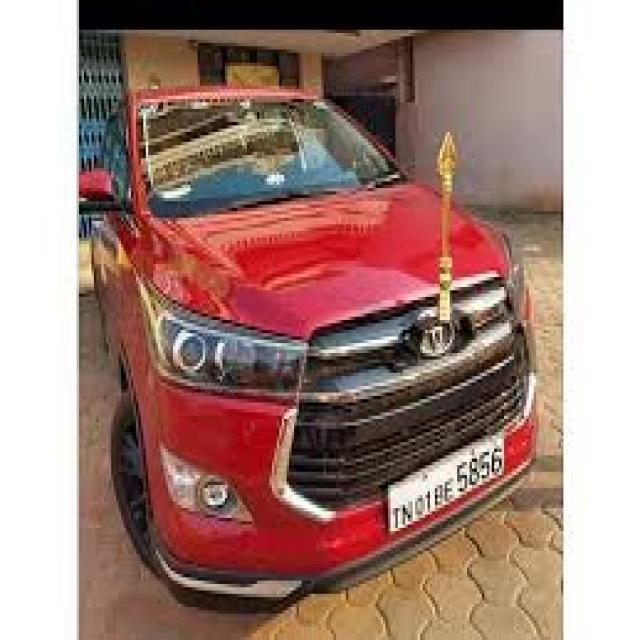light_vehicle: (75, 85, 538, 612)
